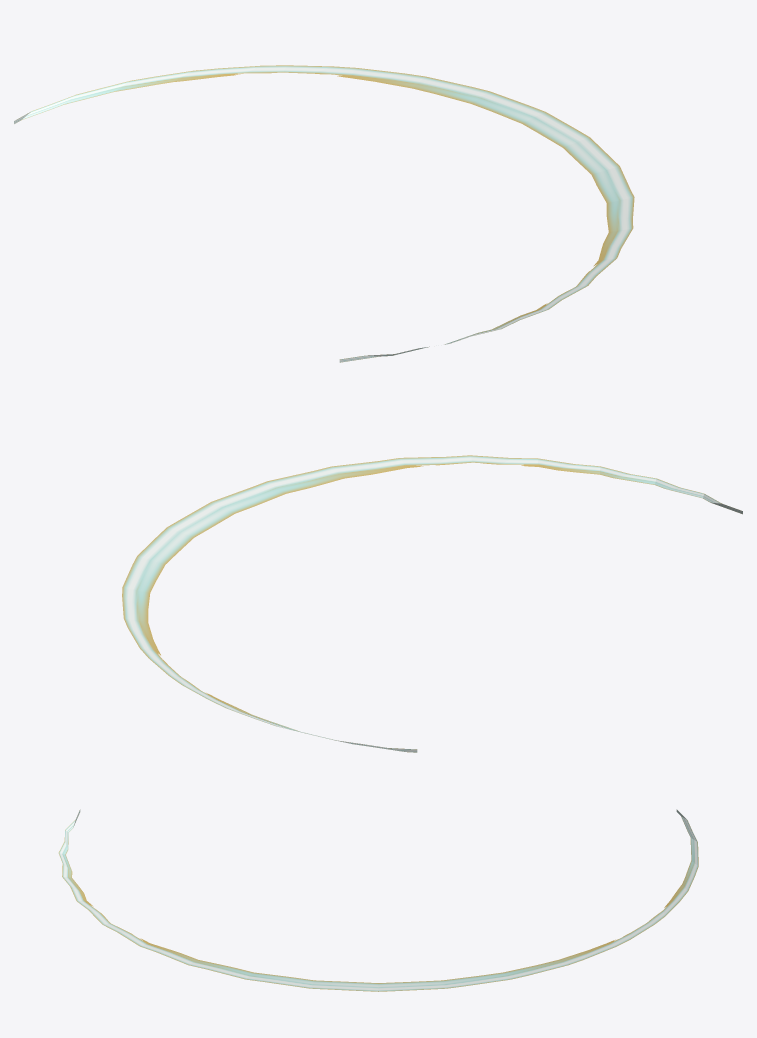
File: vfx_arc.obj
3 renders of one model, top to bottom at view 1: azimuth 30°, elevation 25°; view 2: azimuth 150°, elevation 25°; view 3: azimuth 270°, elevation 25°, orthographic. The views are drawn at different scales.
Bounding box in the file's own units: 1 × 0.06 × 1.34.
